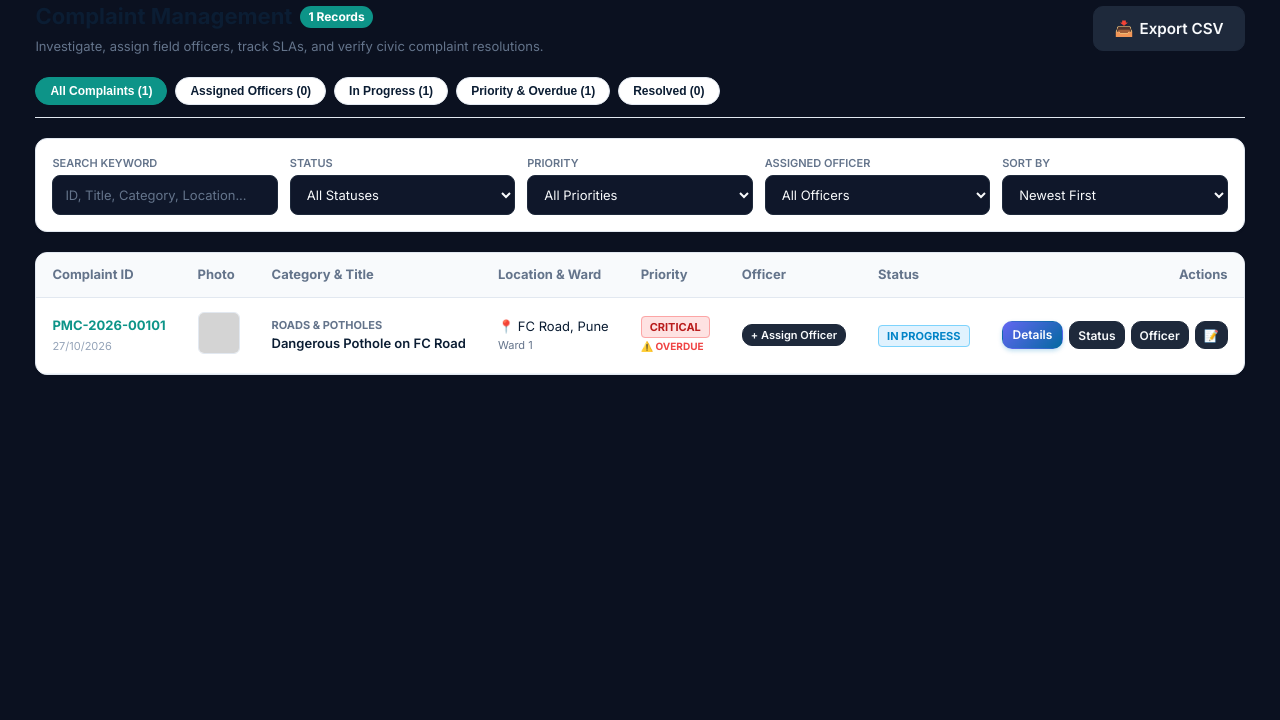
Scenario: Department Admin Dashboard & Modules › 5. DepartmentSidebar & DepartmentSettings Cleanups › Assign Field Officer modal removes AVAILABLE text and excludes department admin
Expected: the text "Dangerous Pothole on FC Road" is shown, [272,334,466,353]
Click the button titled "Assign Officer" at coordinates (1160, 335), box [1130,321,1189,349]
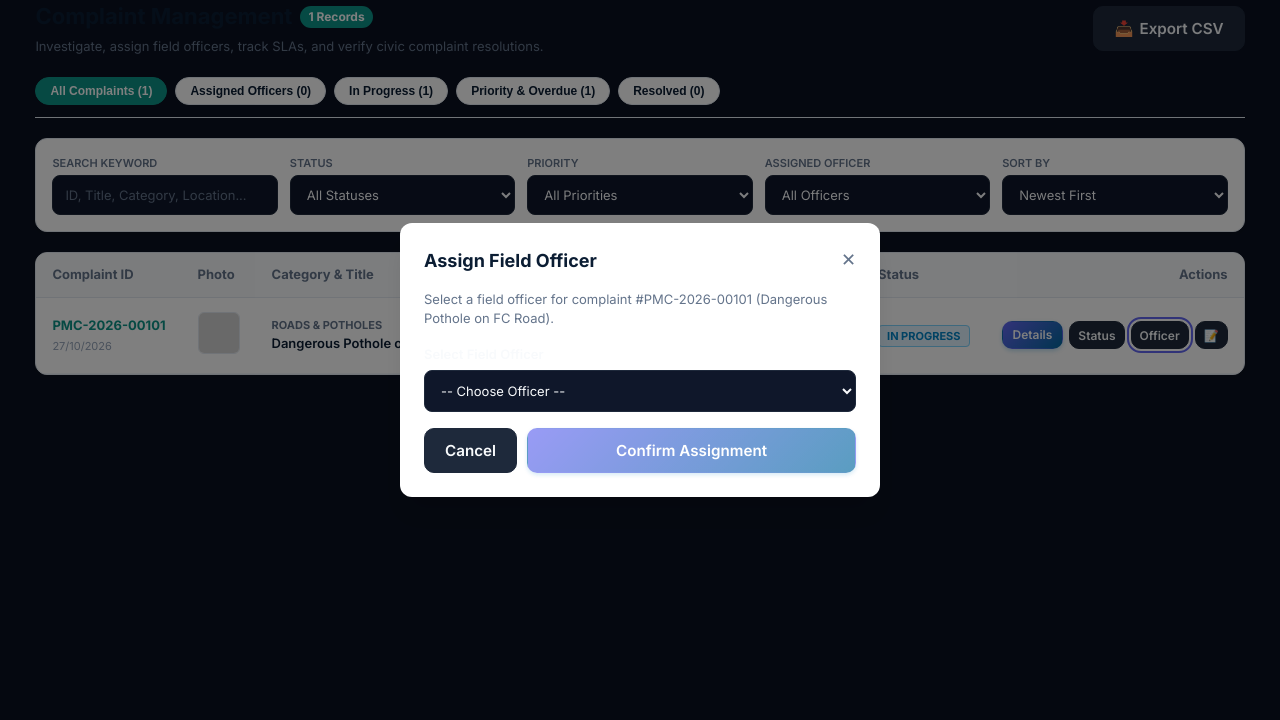
Now the heading "Assign Field Officer" is shown, box [424,246,597,274]
Now the dropdown labelled "Select Field Officer" is shown, box [424,370,856,412]
